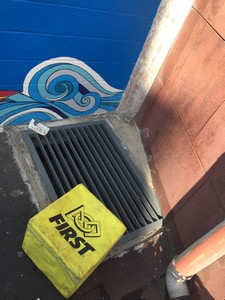cube: (22, 184, 124, 297)
